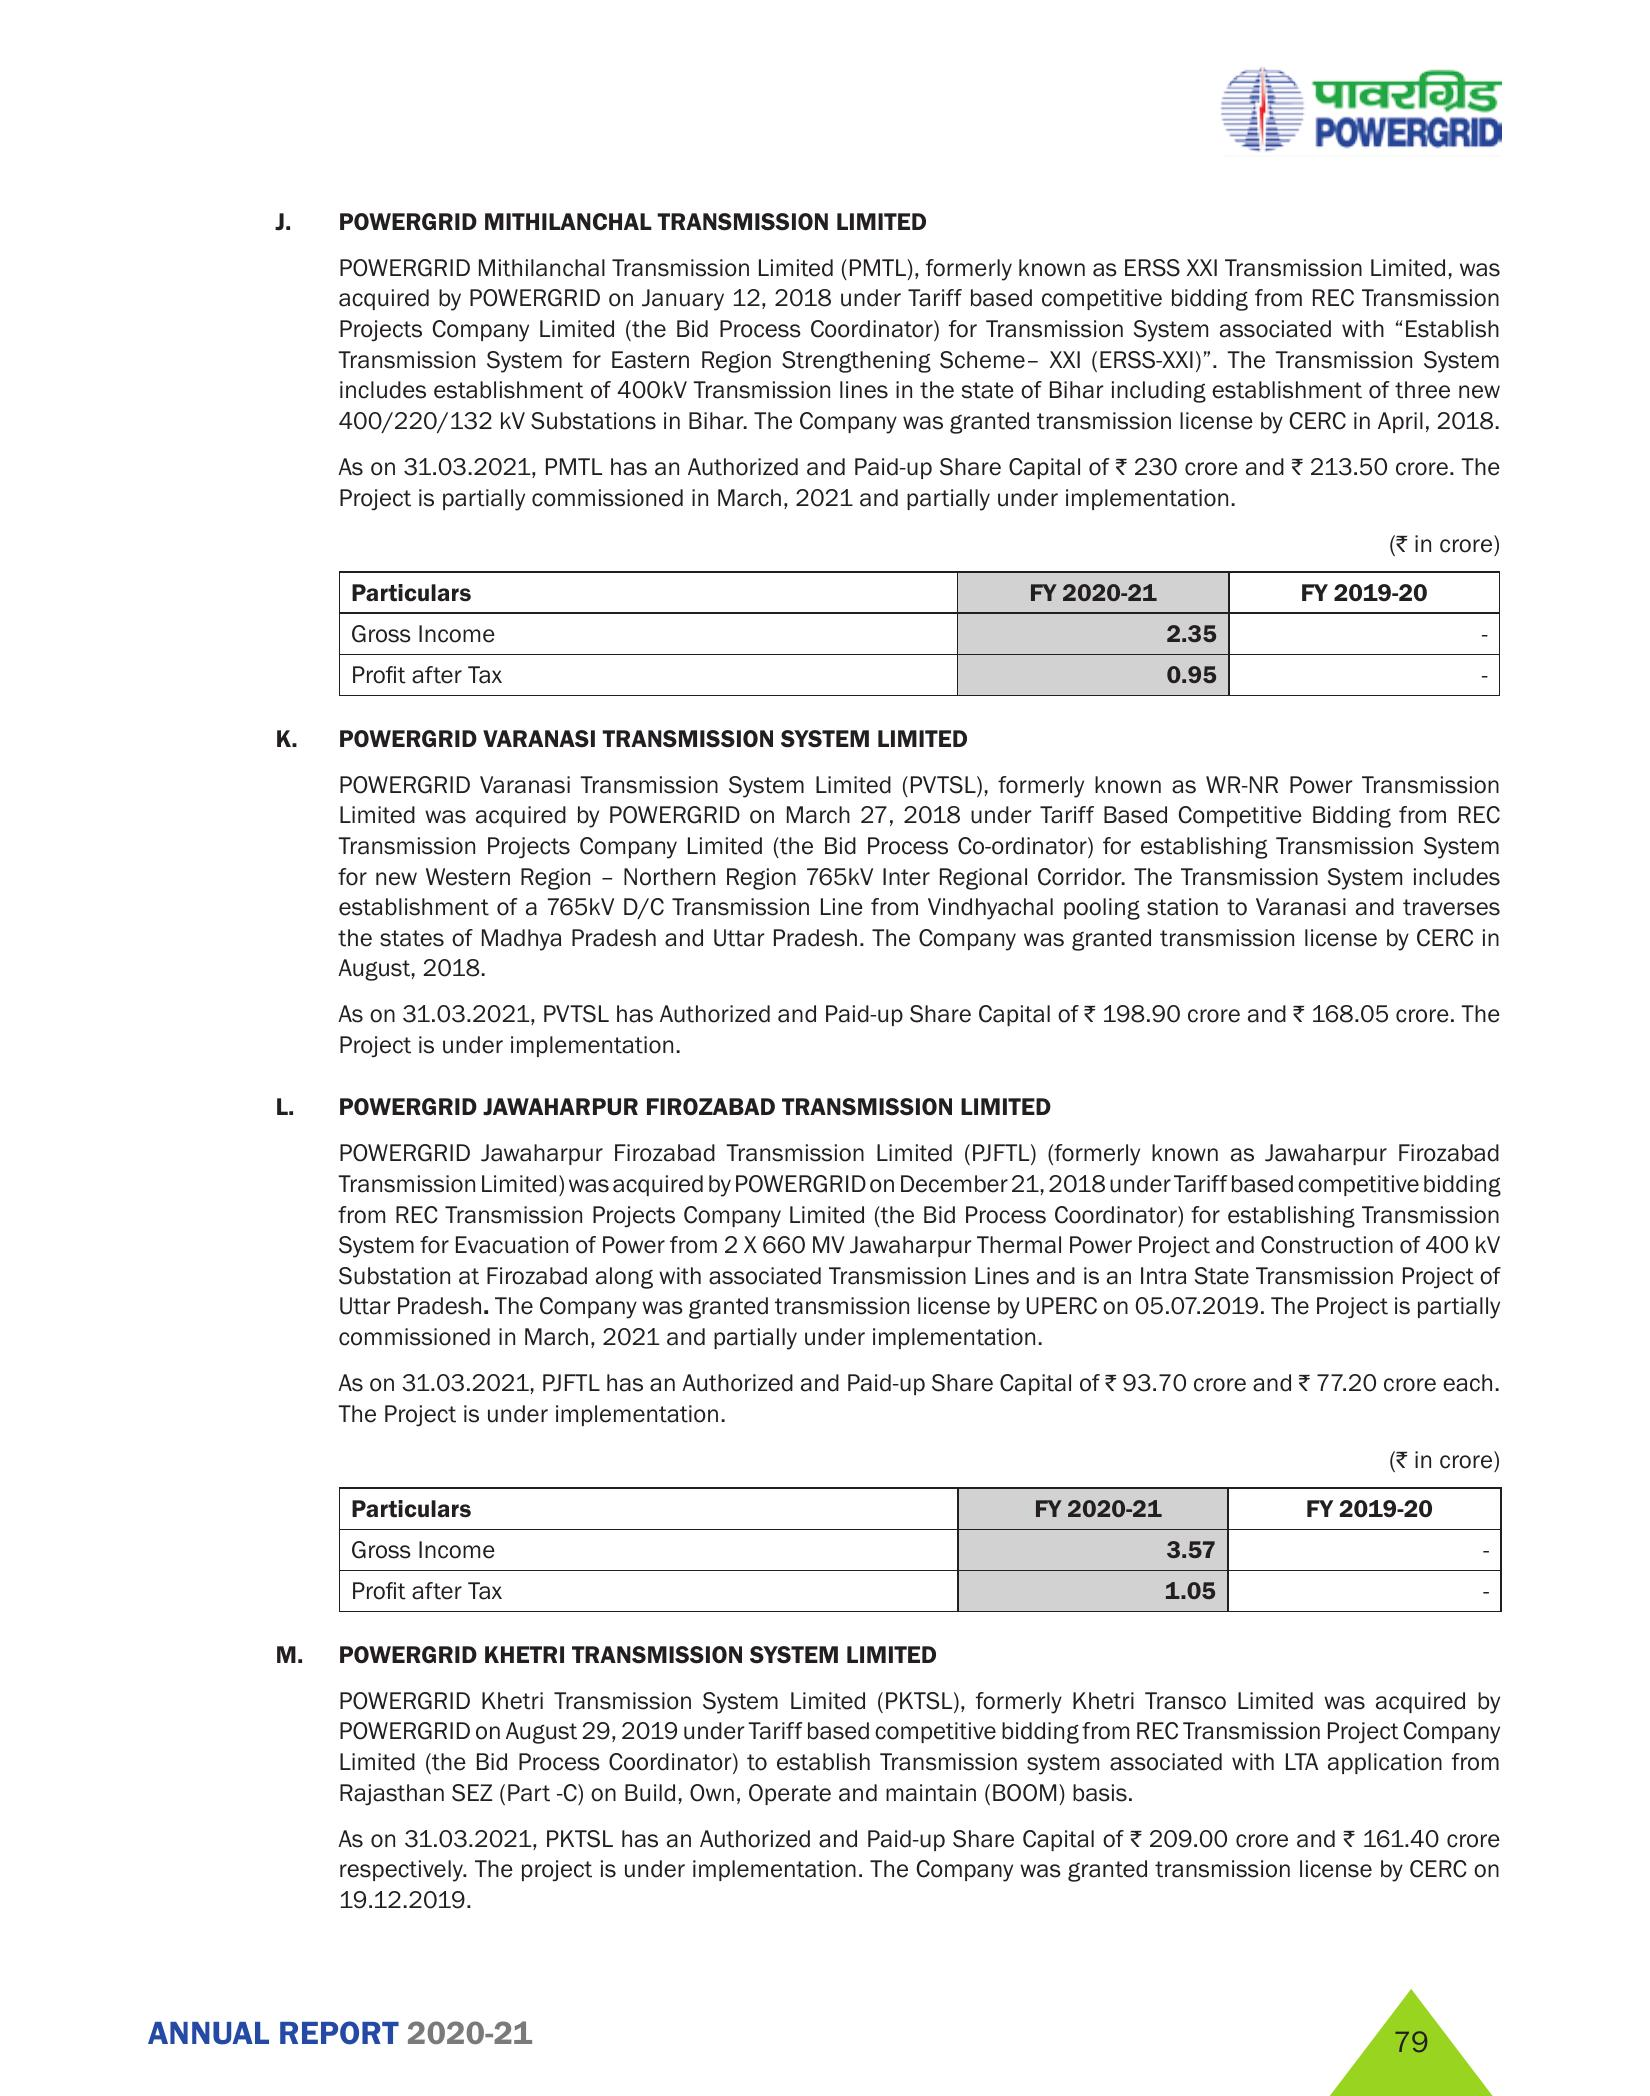Footer: (0, 1945, 1650, 2096)
Header: (0, 0, 1650, 158)
Table: (242, 527, 1539, 720), (245, 1446, 1528, 1618)
